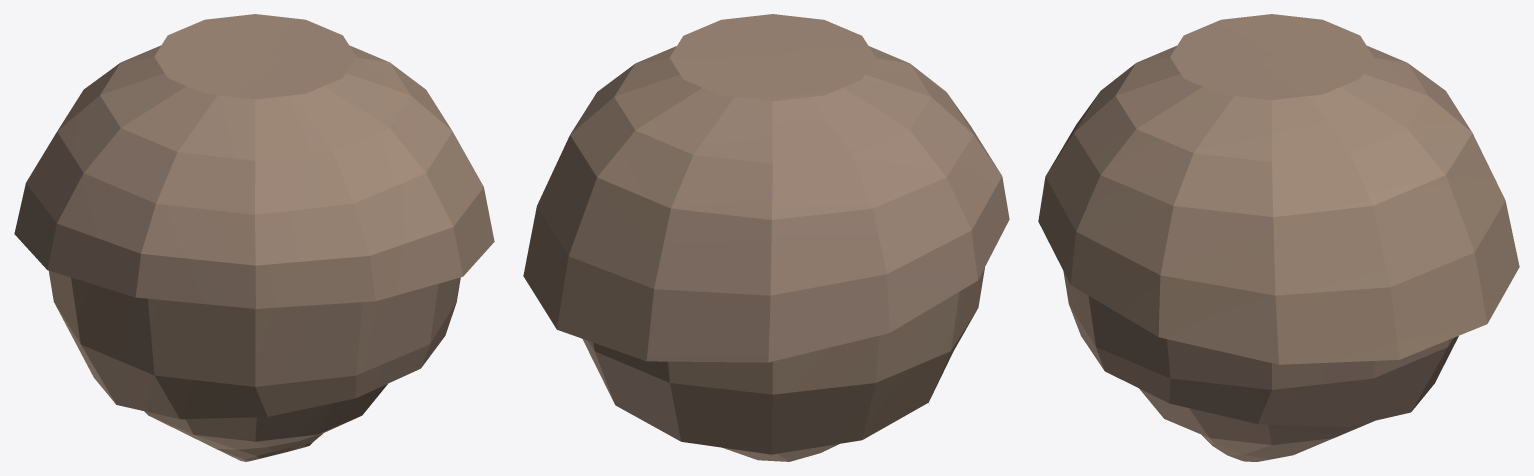
The model's file is Beehive.fbx.
3 views of the same model, side by side, from view 1: azimuth 30°, elevation 25°; view 2: azimuth 150°, elevation 25°; view 3: azimuth 270°, elevation 25° (orthographic). The views are drawn at different scales.
Parts seen in each view (by area): view 1: WaspNest; view 2: WaspNest; view 3: WaspNest.
Boxes of the visible parts, box(x1,y1,x2,y2) form: WaspNest: box(14, 14, 494, 461); WaspNest: box(523, 14, 1009, 461); WaspNest: box(1038, 14, 1519, 461).
Size of the model in its own units: 123 by 113 by 123.
